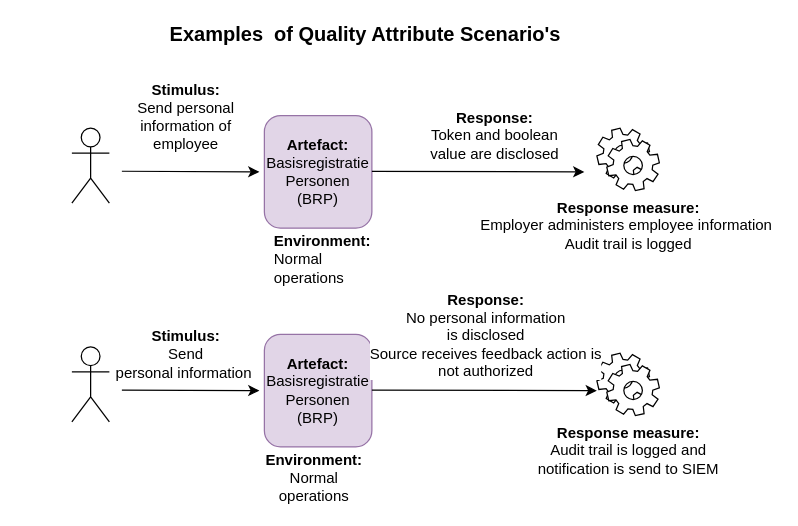
The diagram is 798 pixels wide and 526 high, and some of its shapes have lost their labels. The shapes that lost their labels are listed below. From the top down, each one's centre as x and y in pixels, then its label:
At point 90,165: "Source: Authorized employer".
At point 90,384: "Source: Unauthorized source".
